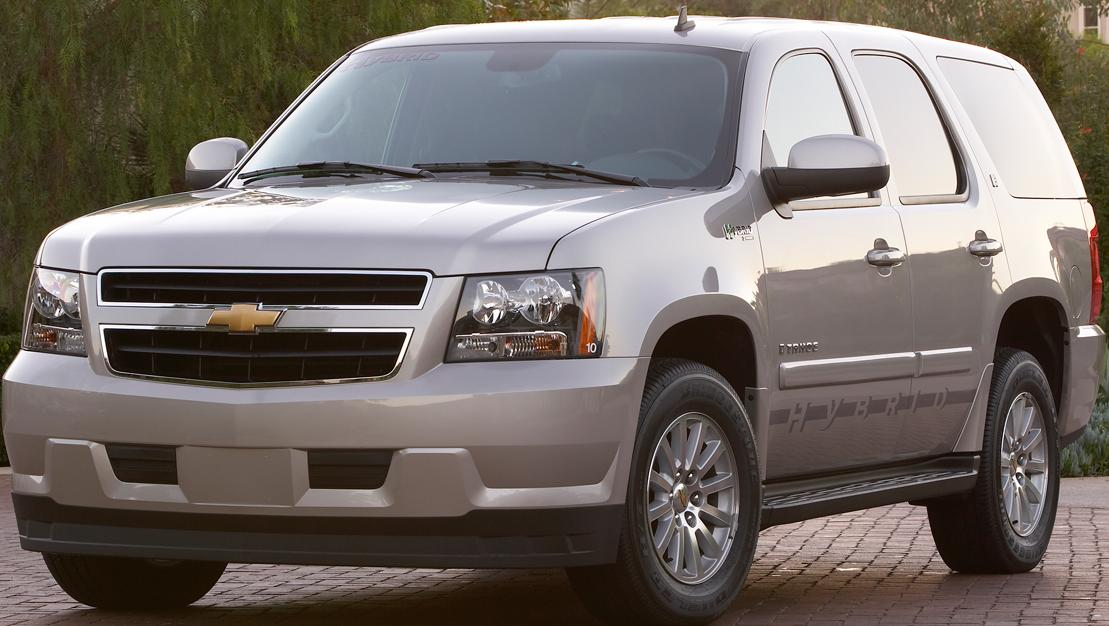front_view: (3, 220, 629, 570)
headlight: (443, 258, 614, 377)
side_glass: (753, 46, 1088, 225)
